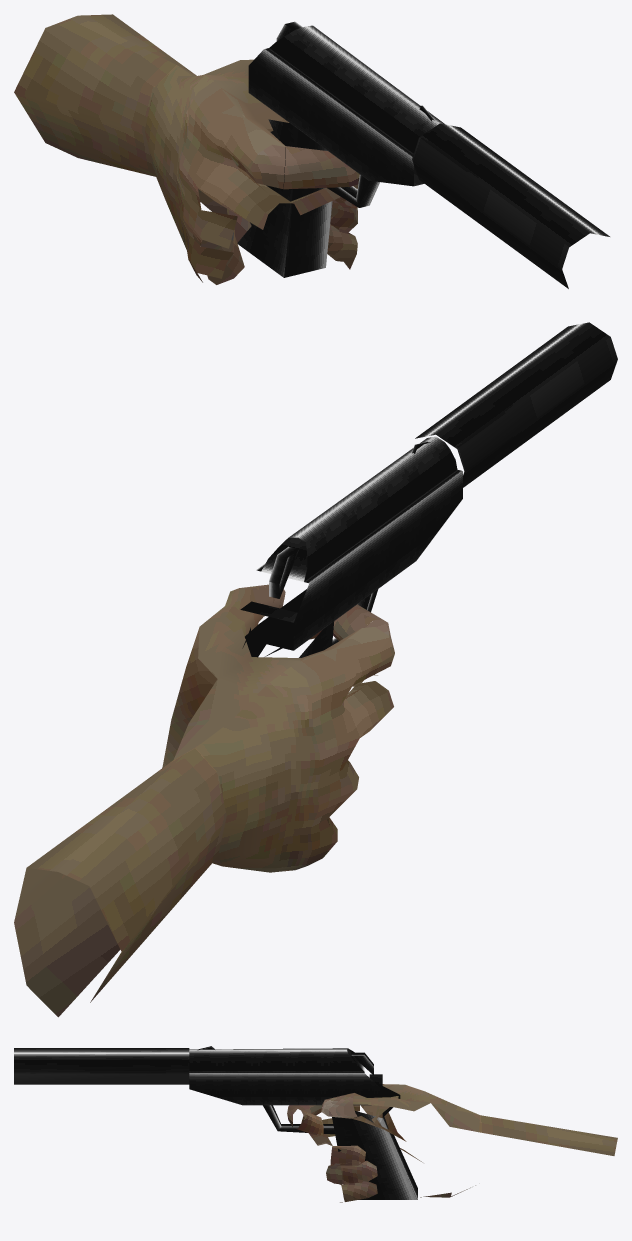
Rendered from gun.glb.
The picture shows the model from 3 angles, top to bottom: view 1: azimuth 30°, elevation 25°; view 2: azimuth 150°, elevation 25°; view 3: azimuth 270°, elevation 25°; orthographic projection. The views are drawn at different scales.
Visible parts, largest first — view 1: m4, m10ClampSClampT, m11ClampSClampT, m5ClampSClampT, m9ClampSClampT, m7ClampSClampT, m6ClampSClampT; view 2: m4, m10ClampSClampT, m11ClampSClampT, m9ClampSClampT, m6ClampSClampT, m7ClampSClampT, m5ClampSClampT, m8; view 3: m4, m11ClampSClampT, m9ClampSClampT, m6ClampSClampT, m5ClampSClampT, m10ClampSClampT, m7ClampSClampT.
Boxes of the visible parts, x1=… form: m4: x1=231, y1=21, x2=609, y2=288; m10ClampSClampT: x1=145, y1=65, x2=290, y2=282; m11ClampSClampT: x1=14, y1=14, x2=196, y2=176; m5ClampSClampT: x1=250, y1=144, x2=359, y2=223; m9ClampSClampT: x1=327, y1=184, x2=358, y2=269; m7ClampSClampT: x1=198, y1=156, x2=251, y2=284; m6ClampSClampT: x1=179, y1=59, x2=266, y2=106; m4: x1=240, y1=322, x2=617, y2=657; m10ClampSClampT: x1=196, y1=627, x2=394, y2=872; m11ClampSClampT: x1=27, y1=748, x2=226, y2=1002; m9ClampSClampT: x1=14, y1=630, x2=321, y2=1017; m6ClampSClampT: x1=173, y1=588, x2=300, y2=759; m7ClampSClampT: x1=162, y1=627, x2=217, y2=767; m5ClampSClampT: x1=240, y1=584, x2=394, y2=686; m8: x1=242, y1=444, x2=423, y2=657; m4: x1=14, y1=1046, x2=417, y2=1199; m11ClampSClampT: x1=479, y1=1115, x2=617, y2=1155; m9ClampSClampT: x1=294, y1=1110, x2=377, y2=1202; m6ClampSClampT: x1=353, y1=1084, x2=480, y2=1132; m5ClampSClampT: x1=287, y1=1093, x2=357, y2=1184; m10ClampSClampT: x1=322, y1=1084, x2=478, y2=1136; m7ClampSClampT: x1=352, y1=1112, x2=475, y2=1197.
Size of the model in its own units: 84 by 168 by 513.
8 materials, 8 textured.
